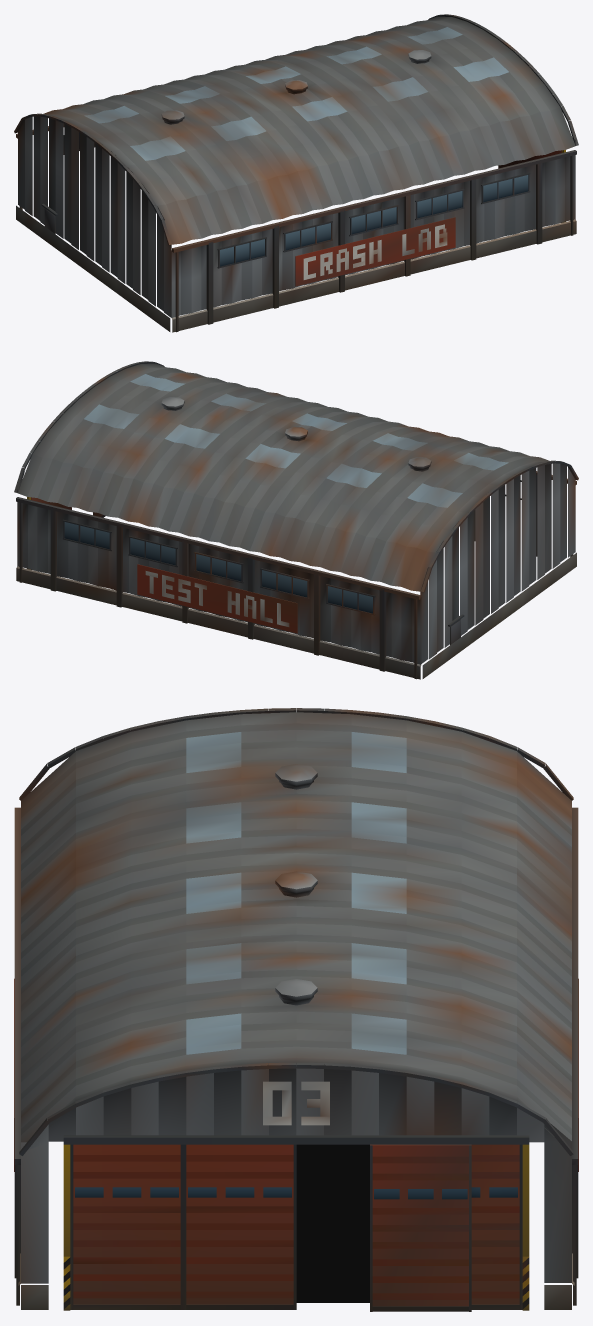
Rendered from hangar.glb.
The picture shows the model from 3 angles, top to bottom: view 1: azimuth 30°, elevation 25°; view 2: azimuth 150°, elevation 25°; view 3: azimuth 270°, elevation 25°; orthographic projection. The views are drawn at different scales.
Parts seen in each view (by area): view 1: Hangar; view 2: Hangar; view 3: Hangar.
Part boxes in pixels (bbox=[...]): Hangar: bbox=[14, 14, 578, 332]; Hangar: bbox=[14, 361, 578, 679]; Hangar: bbox=[14, 708, 578, 1311].
Bounding box in the file's own units: 29.94 × 10 × 19.99.
